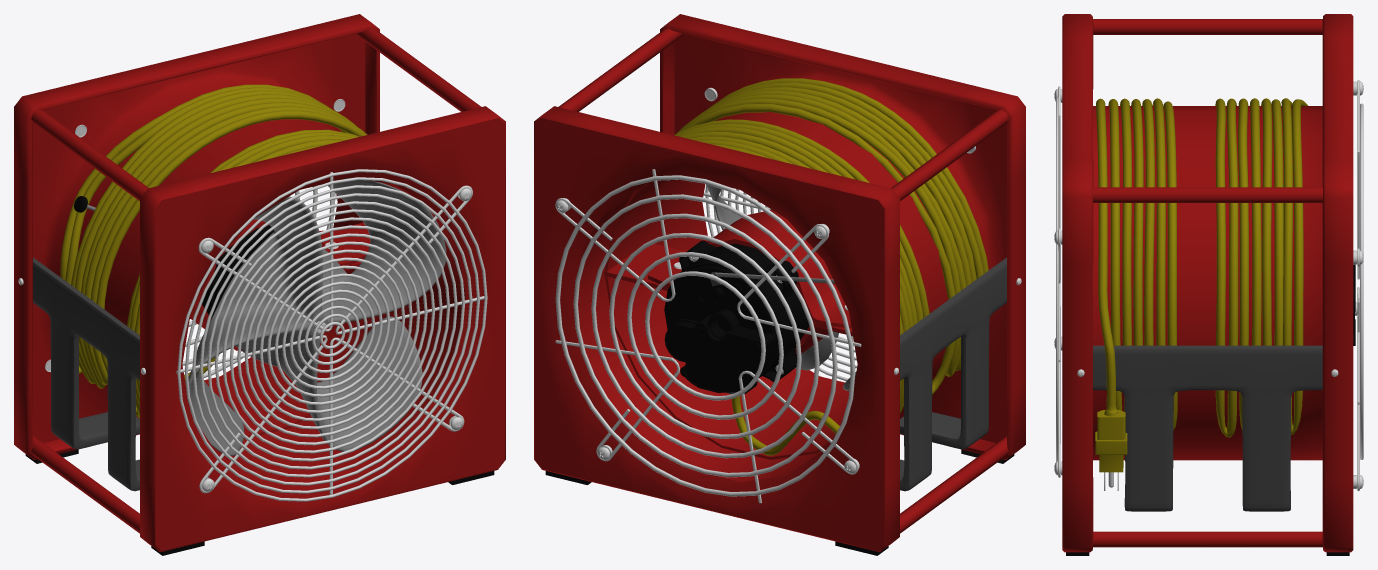
Rendered from boxfan.fbx.
3 renders of one model, left to right at view 1: azimuth 30°, elevation 25°; view 2: azimuth 150°, elevation 25°; view 3: azimuth 270°, elevation 25°, orthographic. The views are drawn at different scales.
Visible parts, largest first — view 1: Frame, Fan_Grills, Fan_Blades, Cable, Side_Plates, Motor, Screws_Bolts; view 2: Frame, Fan_Grills, Cable, Motor, Side_Plates, Fan_Blades, Screws_Bolts; view 3: Frame, Cable, Side_Plates, Fan_Grills, Screws_Bolts.
Part boxes in pixels (left/top/right/bottom): Frame: left=14, top=14, right=505, bottom=555; Fan_Grills: left=176, top=169, right=487, bottom=501; Fan_Blades: left=188, top=178, right=446, bottom=455; Cable: left=60, top=84, right=367, bottom=418; Side_Plates: left=33, top=257, right=139, bottom=491; Motor: left=189, top=225, right=273, bottom=318; Screws_Bolts: left=18, top=99, right=471, bottom=491; Frame: left=534, top=14, right=1025, bottom=555; Fan_Grills: left=555, top=169, right=861, bottom=503; Cable: left=674, top=78, right=988, bottom=455; Motor: left=664, top=240, right=834, bottom=393; Side_Plates: left=900, top=257, right=1006, bottom=491; Fan_Blades: left=706, top=184, right=856, bottom=390; Screws_Bolts: left=556, top=87, right=1021, bottom=473; Frame: left=1062, top=14, right=1353, bottom=555; Cable: left=1095, top=98, right=1307, bottom=490; Side_Plates: left=1093, top=345, right=1322, bottom=511; Fan_Grills: left=1056, top=80, right=1363, bottom=491; Screws_Bolts: left=1054, top=81, right=1363, bottom=488.
Bounding box in the file's own units: 98.05 × 92.01 × 69.24.
